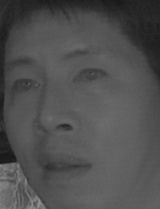eye: (69, 64, 110, 90), (9, 75, 41, 97)
mouth: (35, 148, 93, 183)
